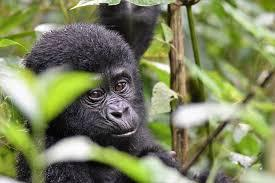goriile_montagne: (20, 22, 186, 180)
